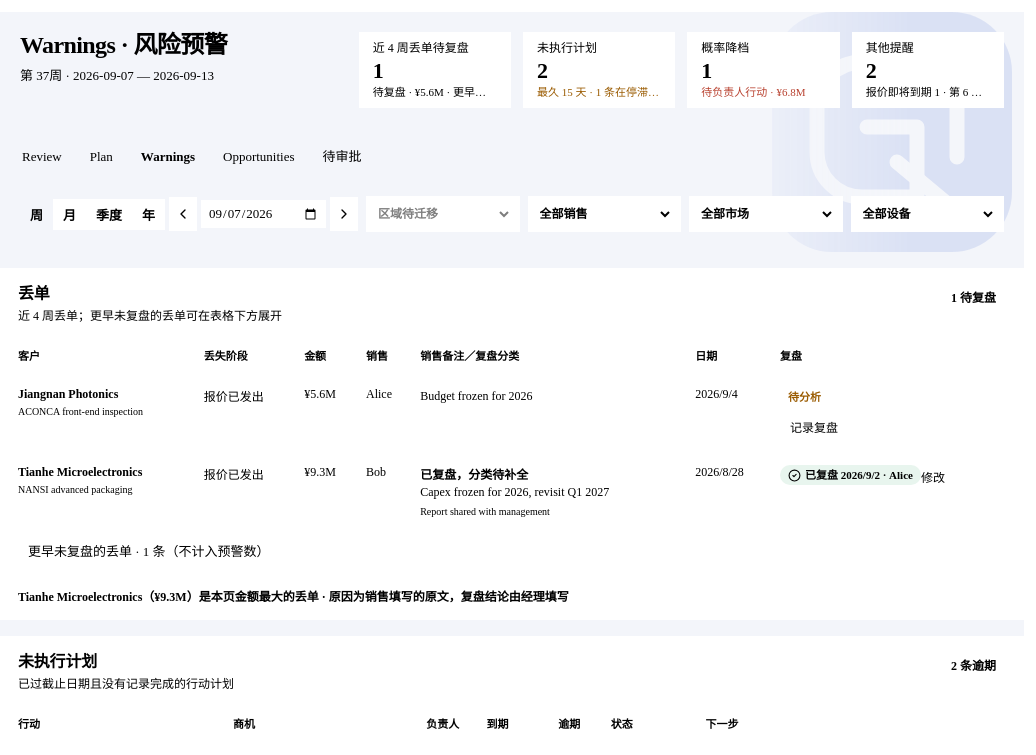
it: Warnings page › describes the listed rows in both cards when their count is unknown, and says so only when none is listed
The image size is (1036, 755).
Select "Frontend" in the dropdown named "Market": (766,214) [697, 203, 834, 225]
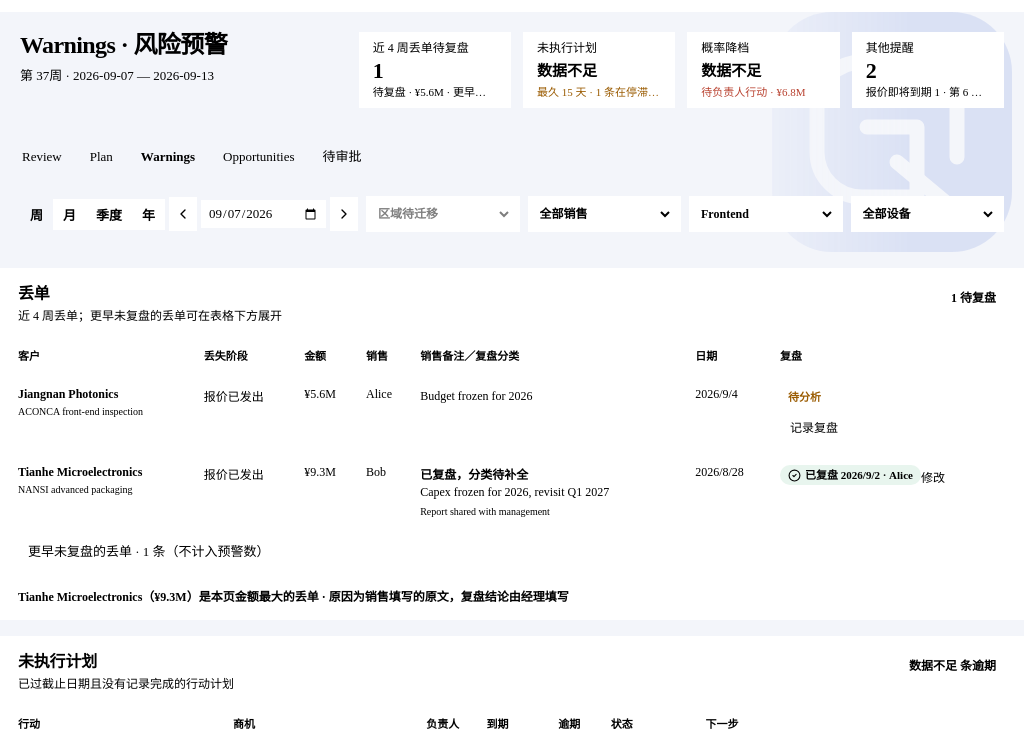
Check: the text "最久 15 天 · 1 条在停滞商机上" is shown, box [537, 85, 661, 99]
Check: the 1st text "数据不足" is shown, box [537, 63, 597, 79]
Check: the 2nd text "数据不足" is shown, box [701, 63, 761, 79]
Select "All" in the dropdown named "Market": (766,214) [697, 203, 834, 225]
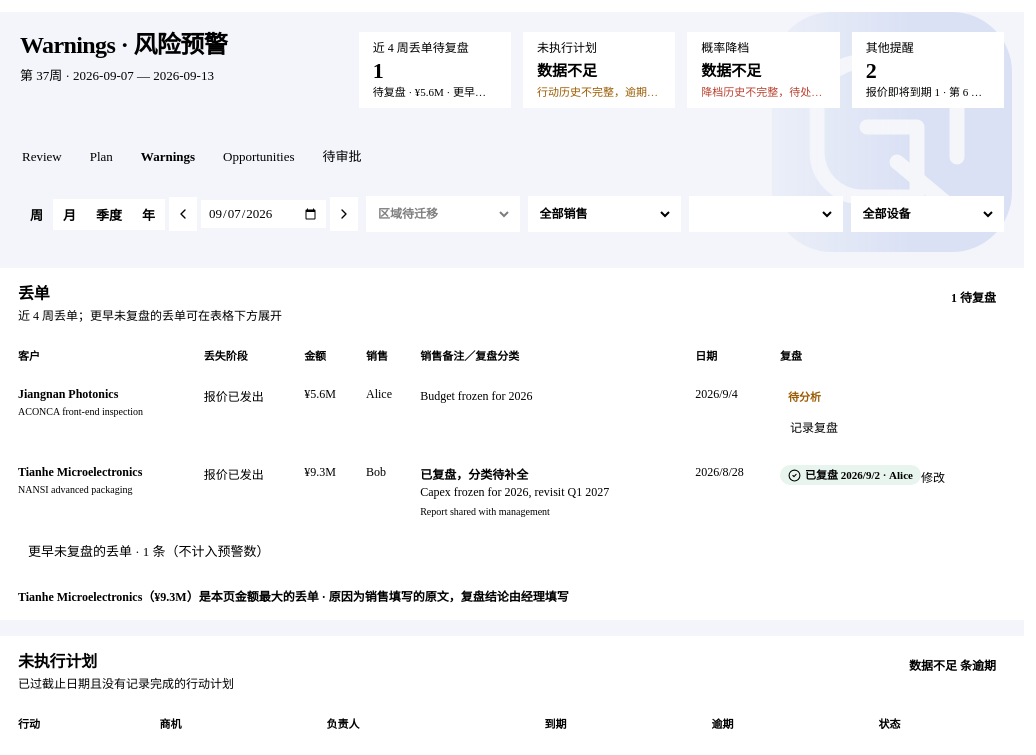
Check: the text "行动历史不完整，逾期总数待核验" is shown, box [537, 85, 661, 99]
Check: the text "降档历史不完整，待处理总数待核验" is shown, box [701, 85, 826, 99]
Select "Frontend" in the dropdown named "Market": (766,214) [697, 203, 834, 225]
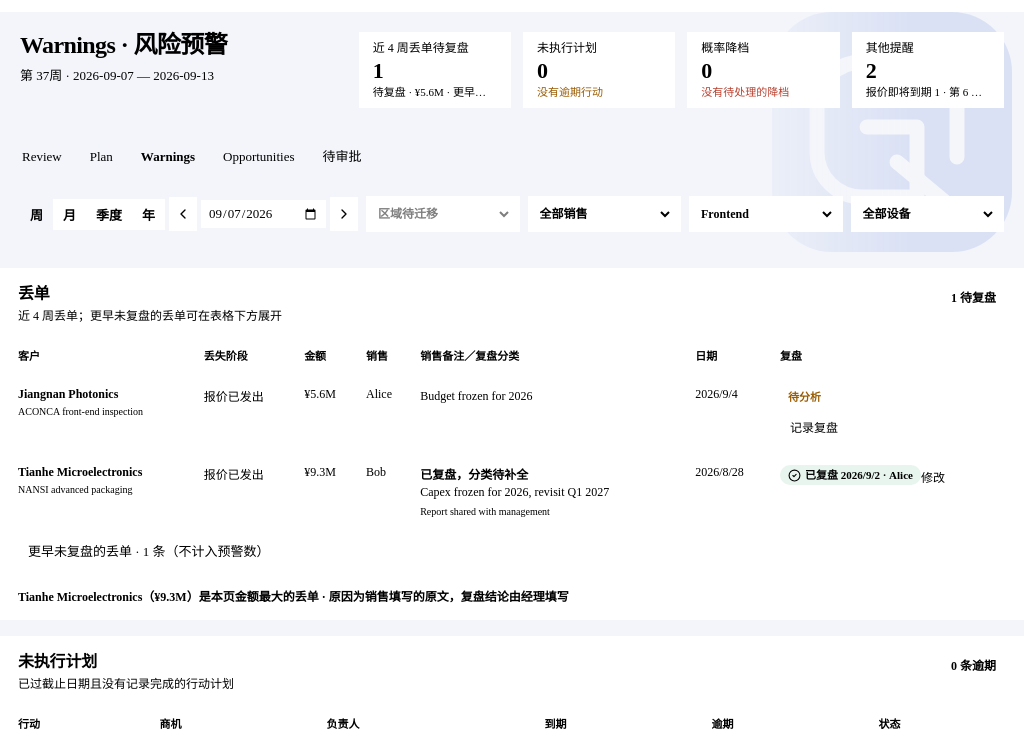
Check: the text "没有逾期行动" is shown, box [537, 86, 603, 98]
Check: the text "没有待处理的降档" is shown, box [701, 86, 789, 98]
